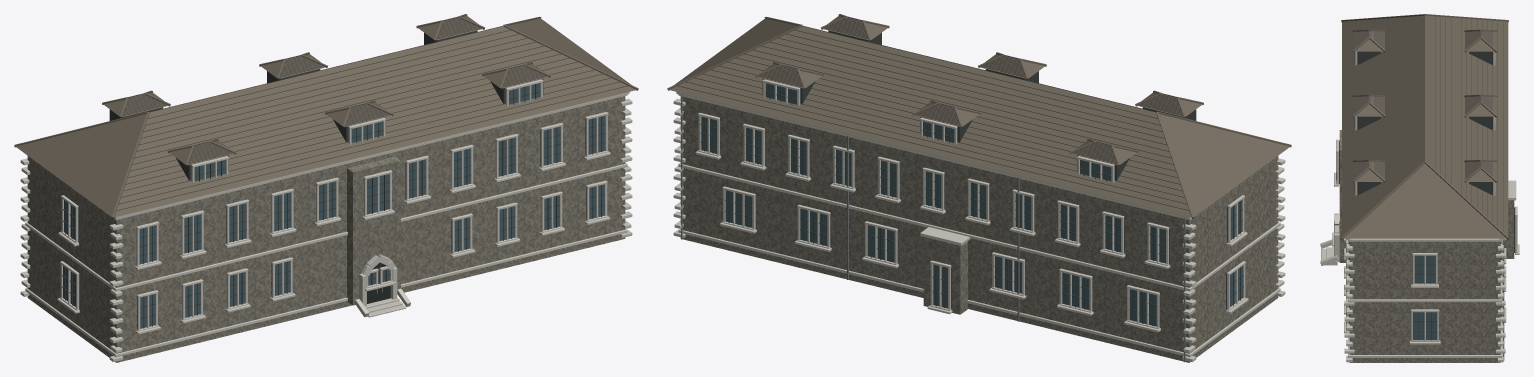
The picture shows the model from 3 angles, left to right: view 1: azimuth 30°, elevation 25°; view 2: azimuth 150°, elevation 25°; view 3: azimuth 270°, elevation 25°; orthographic projection. The views are drawn at different scales.
Parts seen in each view (by area): view 1: two_storey_stone_body__stone, hip_roof__roof, hip_roof_courses__roofline, front_upper_windows__trim, stringcourses__trim, front_upper_windows__glass, dormer_hip_caps__roof, front_central_projection__stone, front_lower_windows__trim, front_lower_windows__glass, corner_dressed_stone__trim, hip_ridge_edges__roof (+11 smaller); view 2: two_storey_stone_body__stone, hip_roof__roof, hip_roof_courses__roofline, rear_upper_observed__trim, stringcourses__trim, rear_upper_observed__glass, dormer_hip_caps__roof, rear_lower_observed__trim, rear_lower_observed__glass, corner_dressed_stone__trim, hip_ridge_edges__roof, rear_small_projection__stone (+12 smaller); view 3: hip_roof__roof, two_storey_stone_body__stone, hip_roof_courses__roofline, dormer_hip_caps__roof, hip_ridge_edges__roof, stringcourses__trim, corner_dressed_stone__trim, dormer_cheeks__frame, side_lower_window__glass, side_upper_window__glass, front_central_projection__stone, rear_small_projection__stone (+9 smaller).
Boxes of the visible parts, x1,y1,x2,y2 form: two_storey_stone_body__stone: (27,96,625,362); hip_roof__roof: (16,18,636,217); hip_roof_courses__roofline: (116,16,628,210); front_upper_windows__trim: (135,112,610,269); stringcourses__trim: (25,94,627,357); front_upper_windows__glass: (139,115,605,264); dormer_hip_caps__roof: (103,16,548,164); front_central_projection__stone: (347,156,400,305); front_lower_windows__trim: (135,180,609,334); front_lower_windows__glass: (140,184,604,328); corner_dressed_stone__trim: (20,98,632,361); hip_ridge_edges__roof: (14,14,638,218); two_storey_stone_body__stone: (680,96,1278,362); hip_roof__roof: (669,18,1289,217); hip_roof_courses__roofline: (677,16,1189,210); rear_upper_observed__trim: (695,113,1170,269); stringcourses__trim: (678,94,1280,357); rear_upper_observed__glass: (701,116,1165,263); dormer_hip_caps__roof: (757,16,1202,164); rear_lower_observed__trim: (720,186,1160,332); rear_lower_observed__glass: (725,190,1156,326); corner_dressed_stone__trim: (673,98,1285,361); hip_ridge_edges__roof: (667,14,1291,218); rear_small_projection__stone: (923,237,967,314); hip_roof__roof: (1342,15,1508,238); two_storey_stone_body__stone: (1349,241,1500,362); hip_roof_courses__roofline: (1347,16,1503,231); dormer_hip_caps__roof: (1353,31,1496,181); hip_ridge_edges__roof: (1341,14,1508,239); stringcourses__trim: (1348,238,1501,357); corner_dressed_stone__trim: (1344,244,1505,362); dormer_cheeks__frame: (1357,51,1492,195); side_lower_window__glass: (1413,312,1436,340); side_upper_window__glass: (1414,255,1435,283); front_central_projection__stone: (1339,130,1345,262); rear_small_projection__stone: (1504,200,1514,258).
Bounding box in the file's own units: 35.22 × 12.76 × 13.6.
8 materials, 1 textured.
